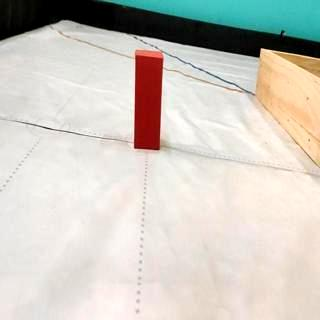redbox: (132, 49, 164, 150)
